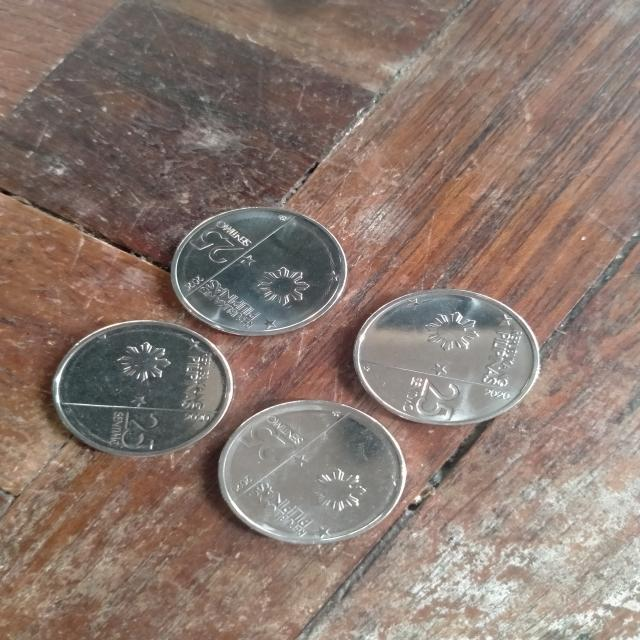25Cent_New_Front: (85, 330, 214, 454), (173, 218, 312, 328), (399, 308, 513, 419)
